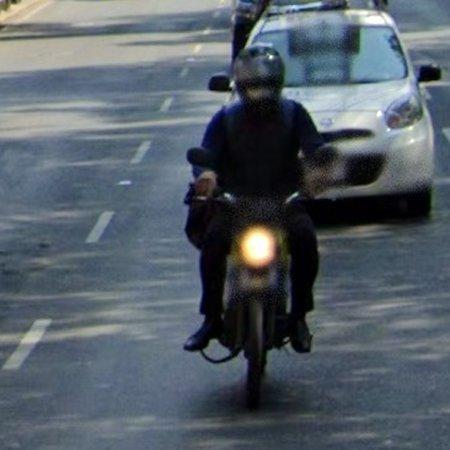motorcycles: (192, 148, 355, 410)
